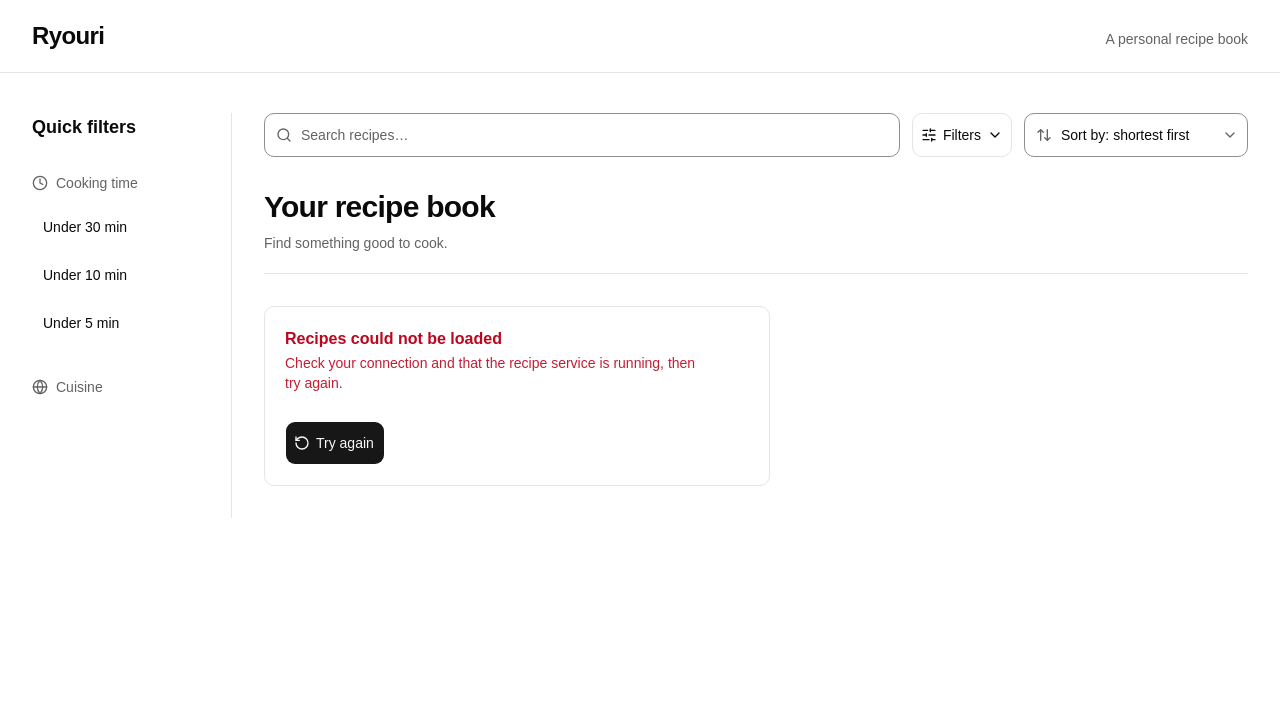
Test: failed /api/recipes?sort=asc is an error, not empty, and can retry
Expected: the message is shown, [264,306,770,486]
Click the button "Try again". click: [335, 443]
box: [285,421,385,465]
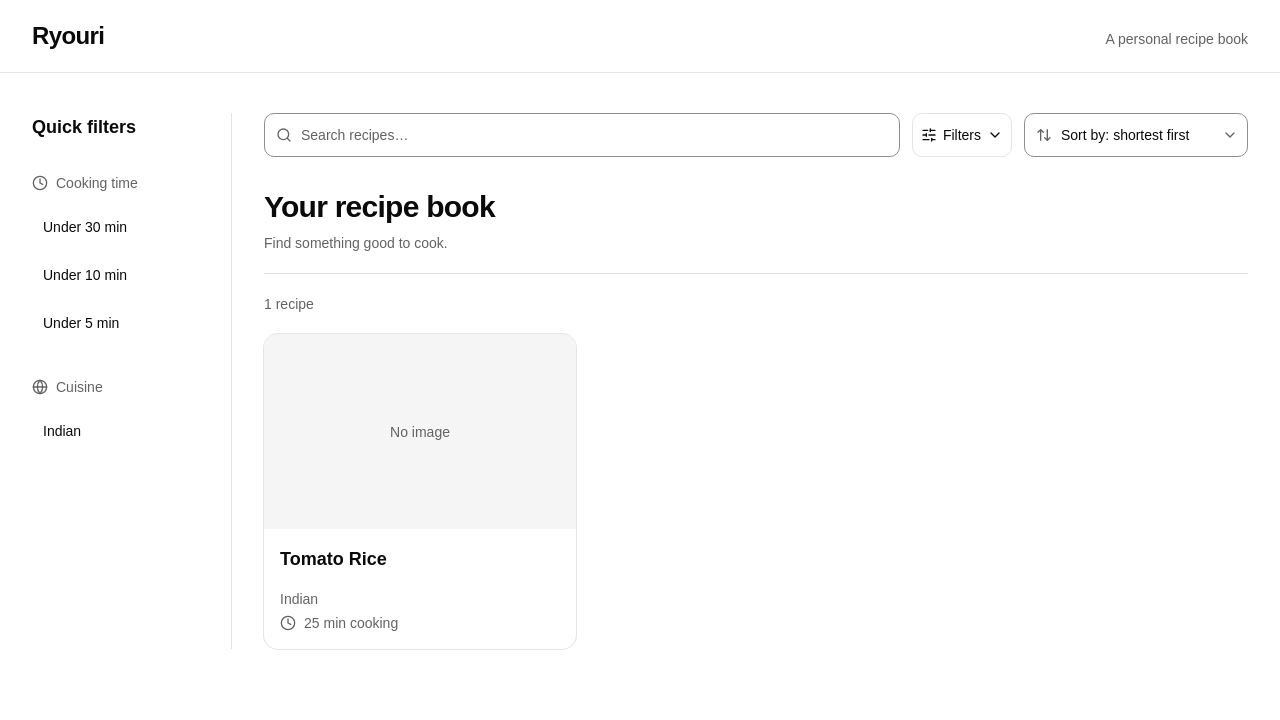
Now the link "No image Tomato Rice" is shown, box [264,334,576,589]
